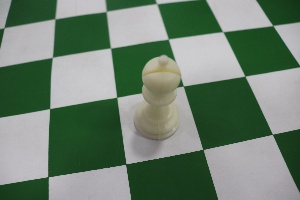white_bishop: (134, 42, 180, 147)
